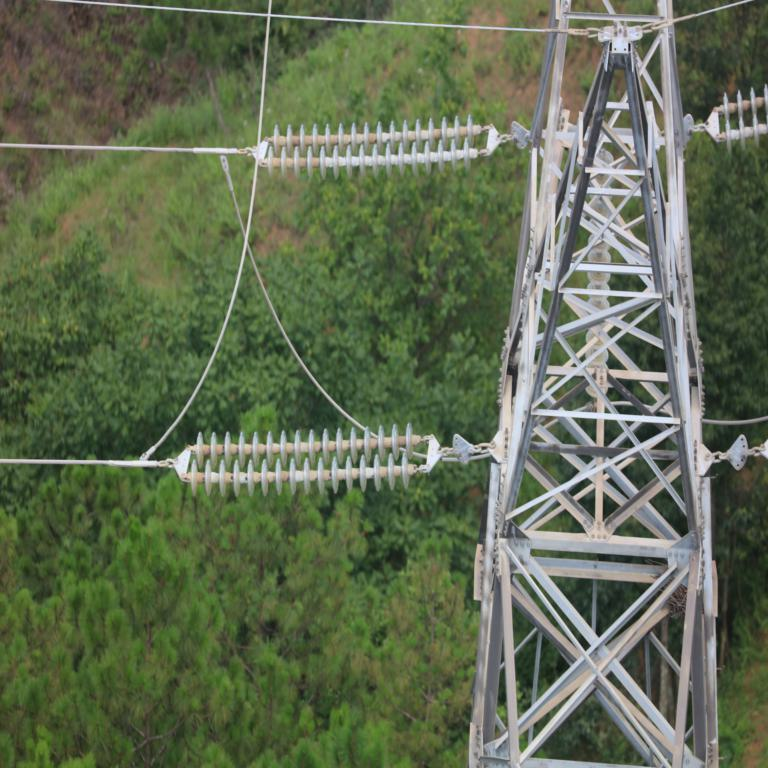nest: (655, 564, 696, 617)
